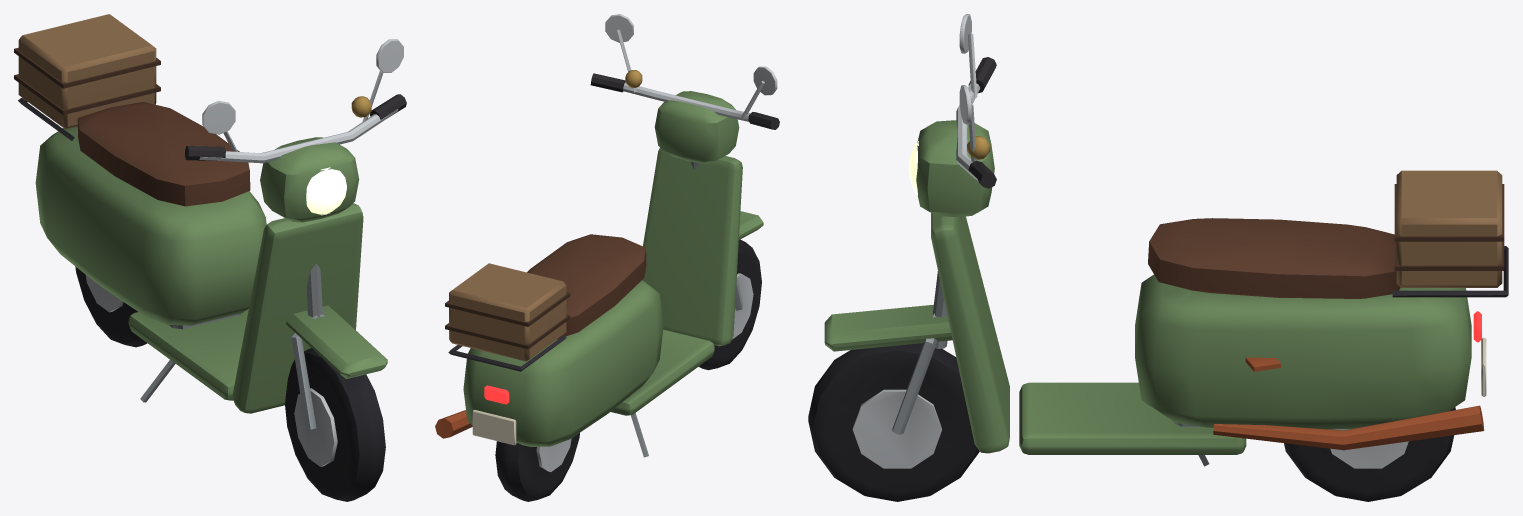
File: veh_moped.glb
3 renders of one model, left to right at view 1: azimuth 30°, elevation 25°; view 2: azimuth 150°, elevation 25°; view 3: azimuth 270°, elevation 25°, orthographic. The views are drawn at different scales.
Visible parts, largest first — view 1: veh_moped, wheel_F, wheel_R, glow; view 2: veh_moped, wheel_R, wheel_F; view 3: veh_moped, wheel_F, wheel_R.
Boxes of the visible parts, x1,y1,x2,y2 form: veh_moped: (14, 14, 406, 429); wheel_F: (285, 348, 385, 501); wheel_R: (75, 266, 147, 347); glow: (306, 167, 346, 215); veh_moped: (435, 14, 779, 457); wheel_R: (495, 433, 579, 501); wheel_F: (698, 239, 761, 370); veh_moped: (824, 14, 1508, 466); wheel_F: (808, 343, 979, 501); wheel_R: (1284, 407, 1455, 501).
Size of the model in its own units: 0.6923 by 1.25 by 1.73.
